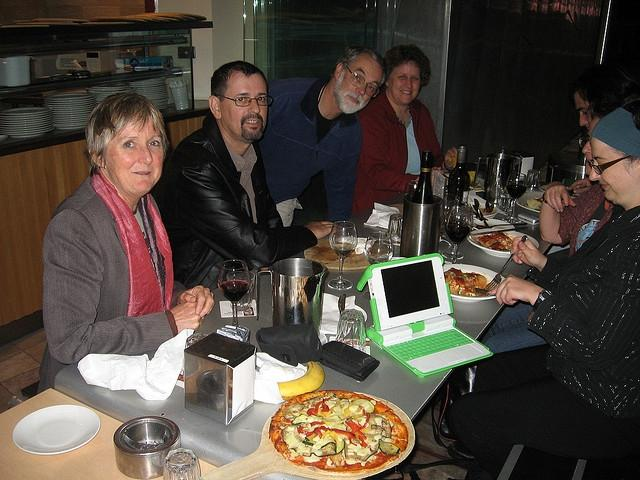banana: (278, 361, 326, 401)
